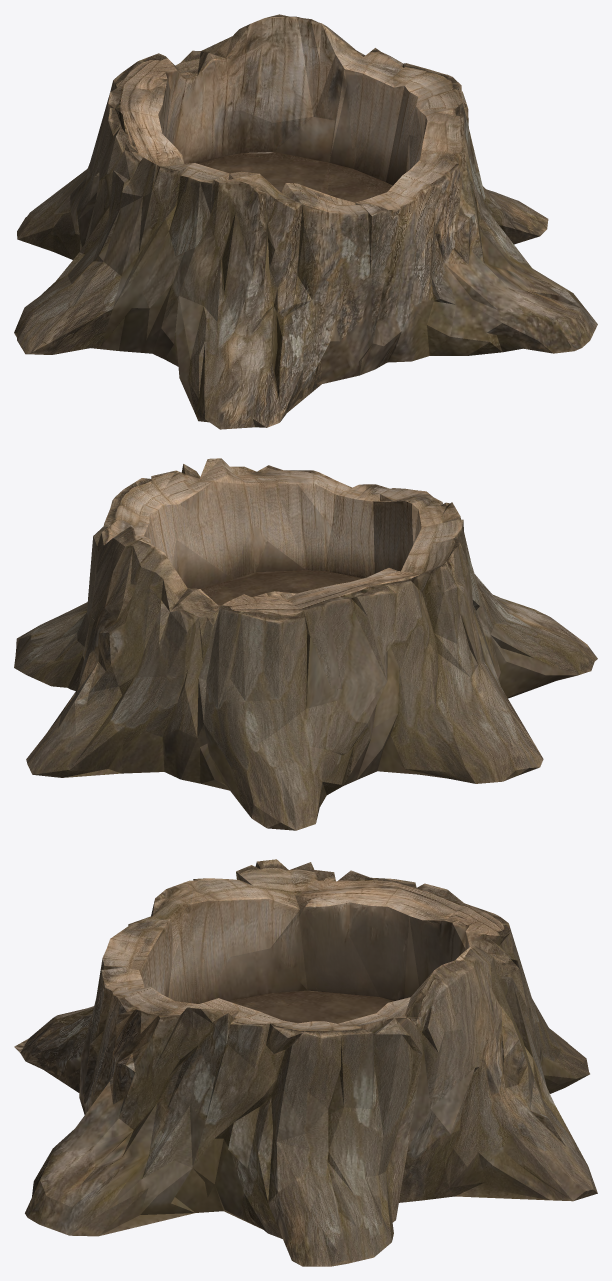
Rendered from co_hollow_stump.glb.
3 views of the same model, one above another, from view 1: azimuth 30°, elevation 25°; view 2: azimuth 150°, elevation 25°; view 3: azimuth 270°, elevation 25° (orthographic). The views are drawn at different scales.
Visible parts, largest first — view 1: output_unwrapped; view 2: output_unwrapped; view 3: output_unwrapped.
Part boxes in pixels (left/top/right/bottom): output_unwrapped: left=14, top=14, right=597, bottom=429; output_unwrapped: left=14, top=458, right=597, bottom=830; output_unwrapped: left=14, top=859, right=597, bottom=1266.
Size of the model in its own units: 1.9 by 0.7014 by 1.72.
1 material, 1 textured.
